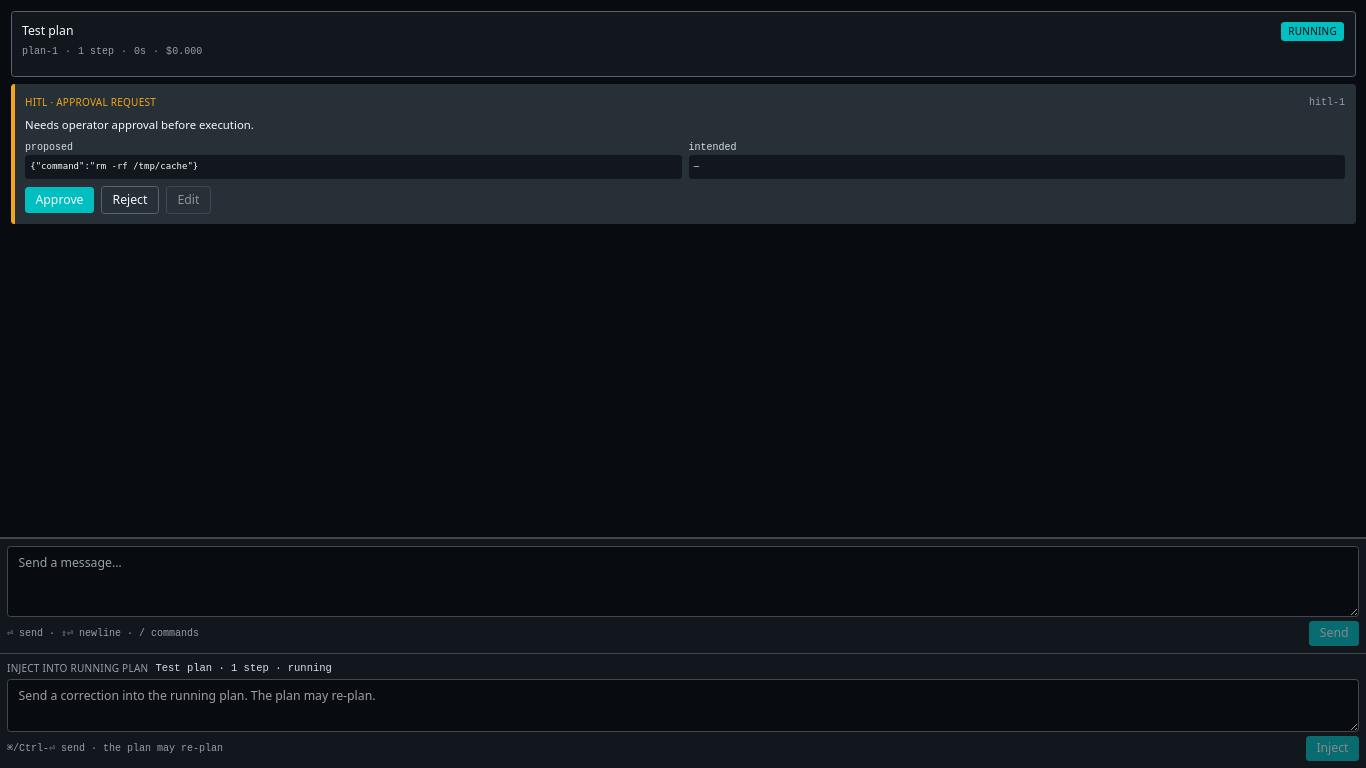
Test: ChatSurface HITL › surfaces a kernel error via ErrorState
This screenshot has width=1366, height=768.
Click the button "Approve" at (60, 200), box [25,187,94,212]
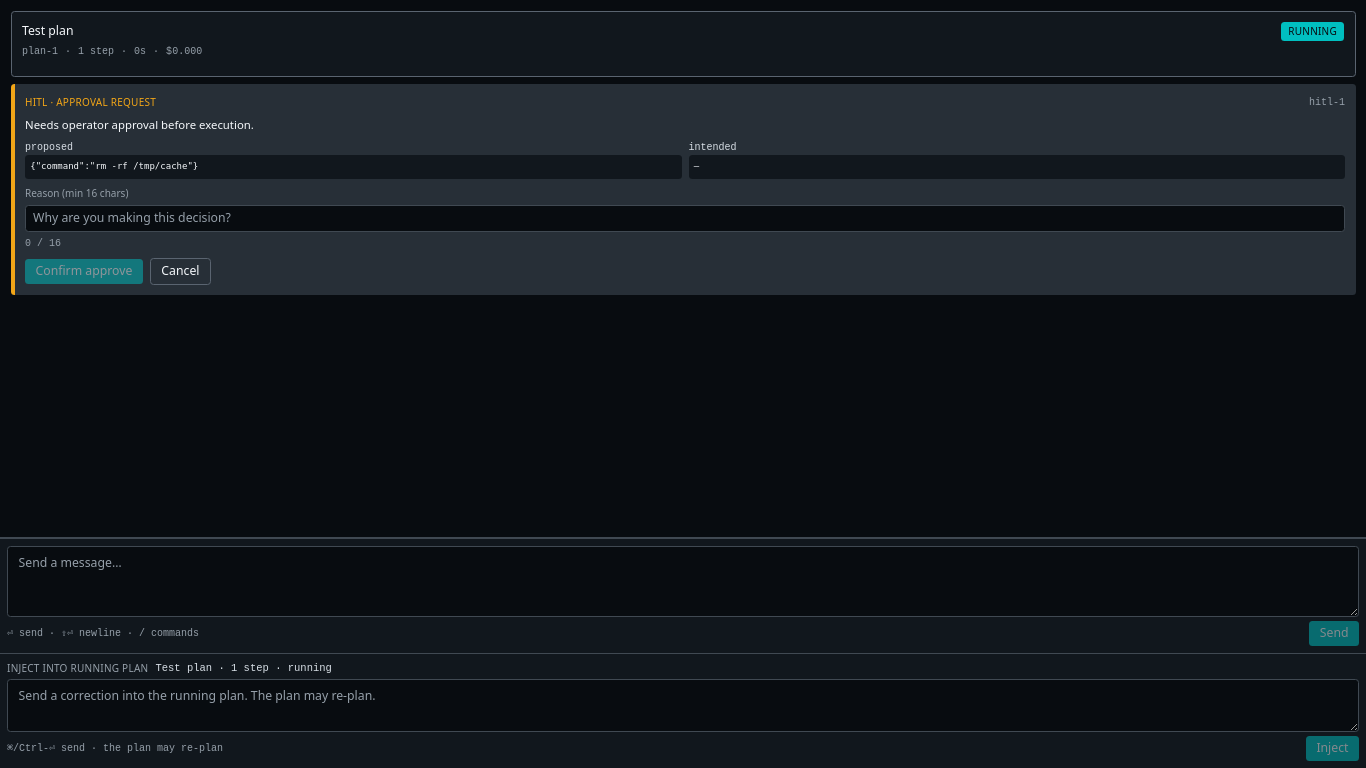
Type "this action is safe to proceed" into the field labelled "Reason (min 16 chars)" at (685, 218), box [25,205,1345,232]
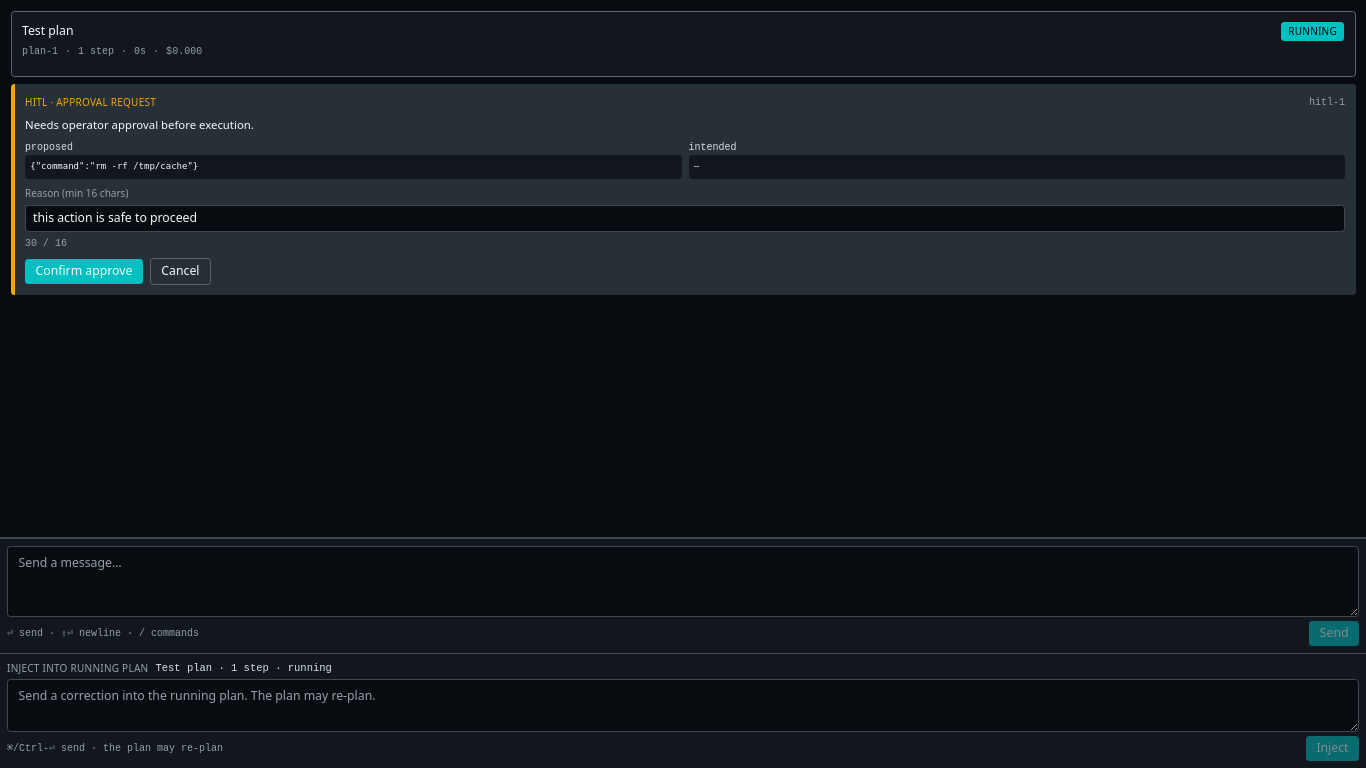
Click the button "Confirm approve" at (84, 271), box [25,258,143,284]
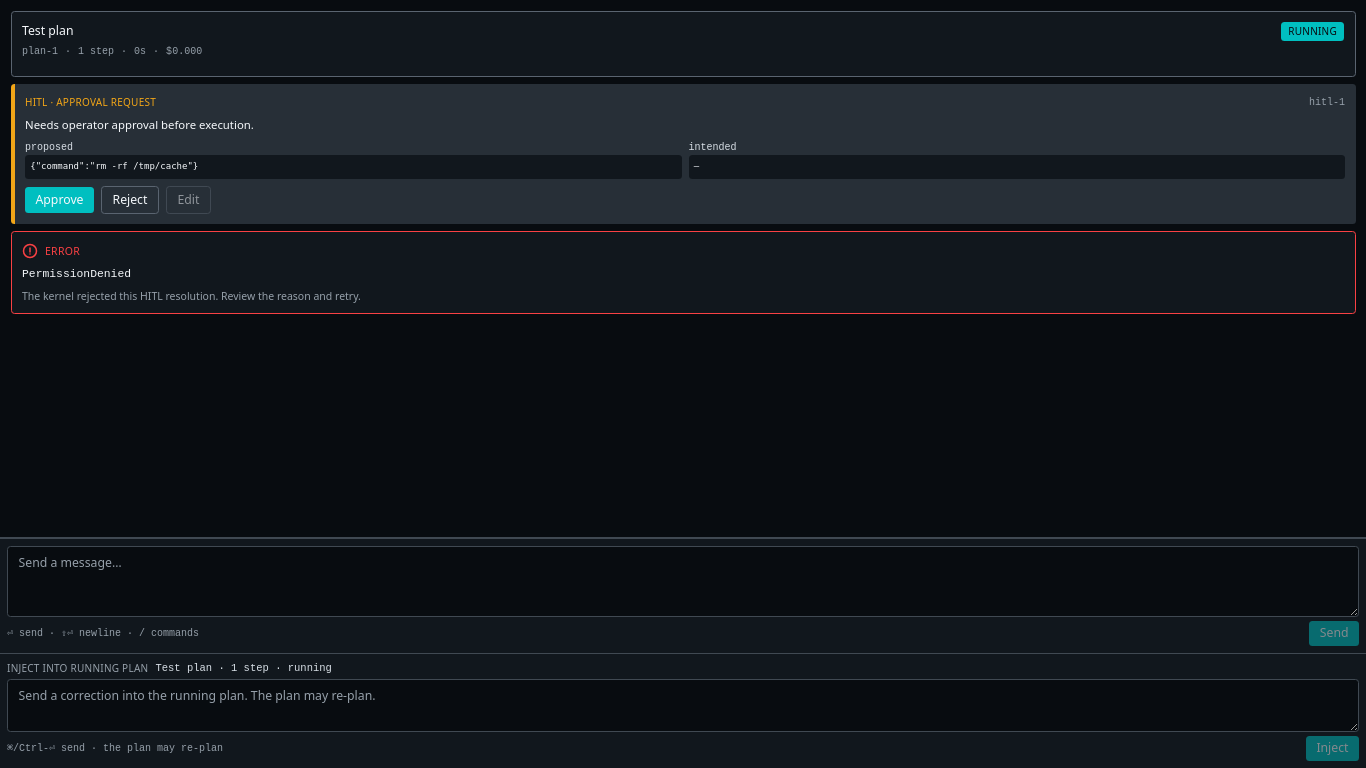
Check: the message shows "PermissionDenied", box [22,268,131,280]
